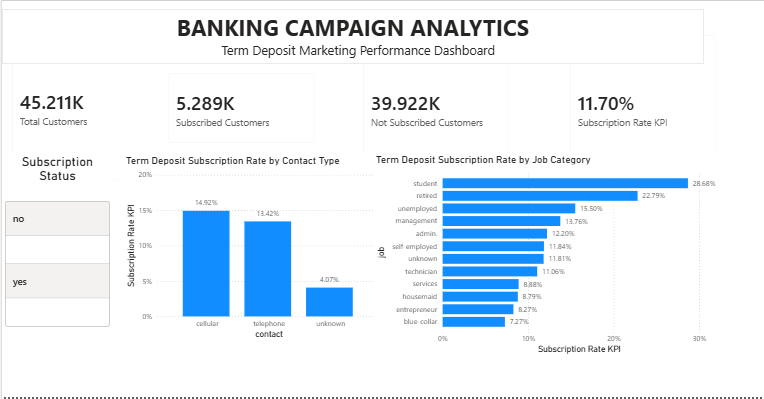

What the dashboard file says about the page in this screenshot:
{"tool":"powerbi","page":{"name":"Page 1","canvas":[1280,720],"ordinal":0},"visuals":[{"type":"cardVisual","fields":{"Data":["CountNonNull(bank_campaign_clean.age)"]},"box":[0,94.1,280.5,280.5],"z":0},{"type":"cardVisual","title":"Subscription Status","fields":{"Rows":["bank_campaign_clean.y"]},"box":[0,312.4,186.5,315.8],"z":1000},{"type":"cardVisual","fields":{"Data":["bank_campaign_clean.Subscribed Customers"]},"box":[262,159.6,280.5,151.2],"z":2000},{"type":"cardVisual","fields":{"Data":["bank_campaign_clean.Not Subscribed KPI"]},"box":[589.6,95.7,278.8,280.5],"z":3000},{"type":"cardVisual","fields":{"Data":["bank_campaign_clean.Subscription Rate KPI"]},"box":[937.3,95.7,278.8,278.8],"z":4000},{"type":"clusteredColumnChart","title":"Term Deposit Subscription Rate by Contact Type","fields":{"Category":["bank_campaign_clean.contact"],"Y":["bank_campaign_clean.Subscription Rate KPI"]},"box":[203.3,312.4,436.7,315.8],"z":5000},{"type":"clusteredBarChart","title":"Term Deposit Subscription Rate by Job Category","fields":{"Category":["bank_campaign_clean.job"],"Y":["bank_campaign_clean.Subscription Rate KPI"]},"box":[623.2,310.8,593,342.7],"z":6000},{"type":"textbox","box":[0,68.9,1179.2,92.4],"z":6001}]}

Visuals, with their boxes on the page's 1280x720 design canvas (x1, y1, x2, y2). These are canvas units, not pixel positions in the 764x399 screenshot, which may show the page scaled, cropped or inside an application window:
cardVisual - CountNonNull(bank_campaign_clean.age): {"left": 0, "top": 94, "right": 280, "bottom": 375}
"Subscription Status" cardVisual: {"left": 0, "top": 312, "right": 186, "bottom": 628}
cardVisual - bank_campaign_clean.Subscribed Customers: {"left": 262, "top": 160, "right": 542, "bottom": 311}
cardVisual - bank_campaign_clean.Not Subscribed KPI: {"left": 590, "top": 96, "right": 868, "bottom": 376}
cardVisual - bank_campaign_clean.Subscription Rate KPI: {"left": 937, "top": 96, "right": 1216, "bottom": 374}
"Term Deposit Subscription Rate by Contact Type" clusteredColumnChart: {"left": 203, "top": 312, "right": 640, "bottom": 628}
"Term Deposit Subscription Rate by Job Category" clusteredBarChart: {"left": 623, "top": 311, "right": 1216, "bottom": 654}
textbox: {"left": 0, "top": 69, "right": 1179, "bottom": 161}
